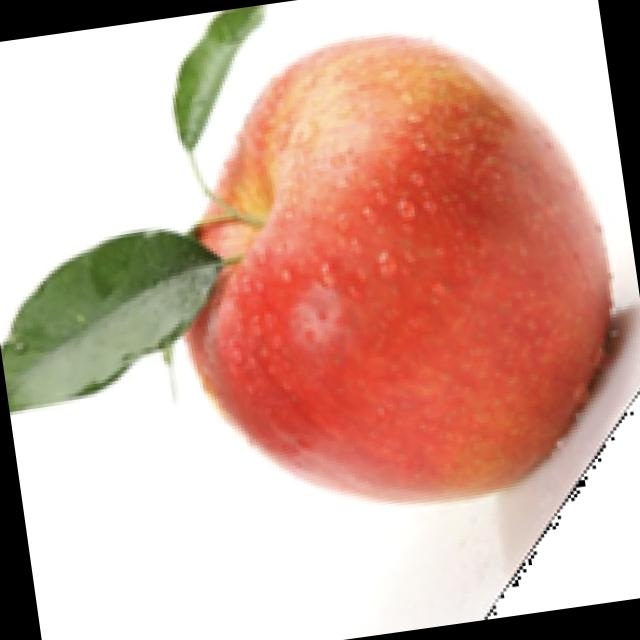apple: (0, 29, 640, 586)
